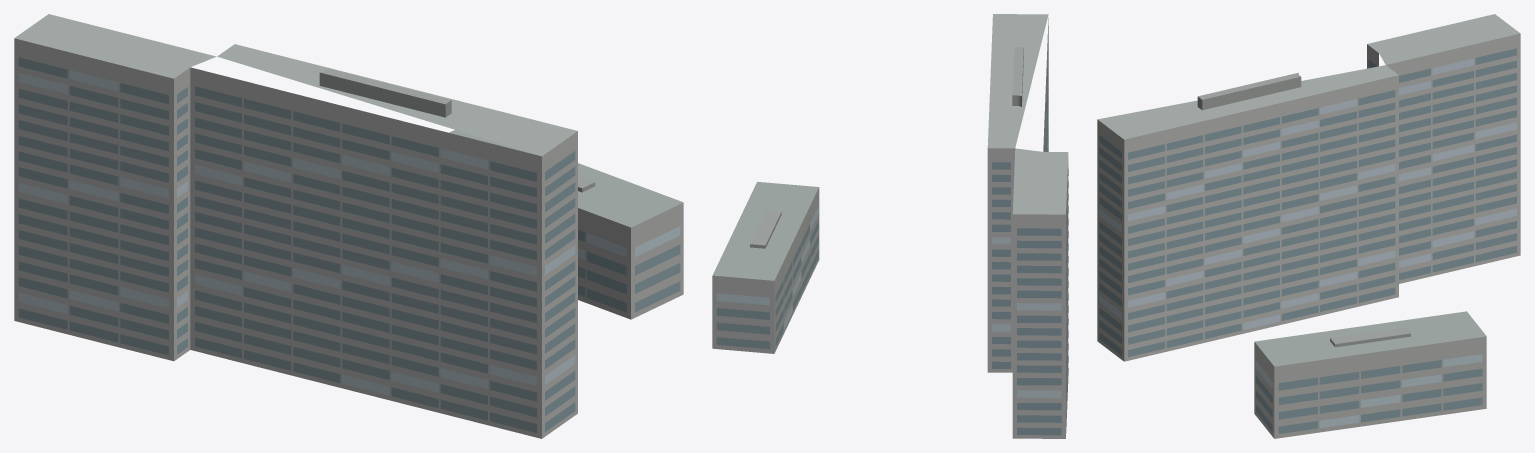
The model's file is apt-a13987301.glb.
3 renders of one model, left to right at view 1: azimuth 30°, elevation 25°; view 2: azimuth 150°, elevation 25°; view 3: azimuth 270°, elevation 25°, orthographic. The views are drawn at different scales.
Visible parts, largest first — view 1: apt-a13987301; view 2: apt-a13987301; view 3: apt-a13987301.
Boxes of the visible parts, x1,y1,x2,y2 form: apt-a13987301: (14, 14, 683, 438); apt-a13987301: (712, 14, 1068, 438); apt-a13987301: (1097, 14, 1520, 438).
Bounding box in the file's own units: 91.71 × 49 × 80.81.
